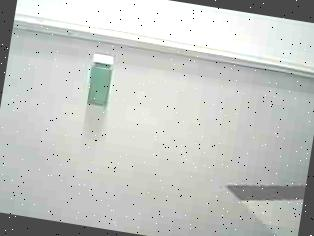Bottle C: (80, 47, 121, 114)
